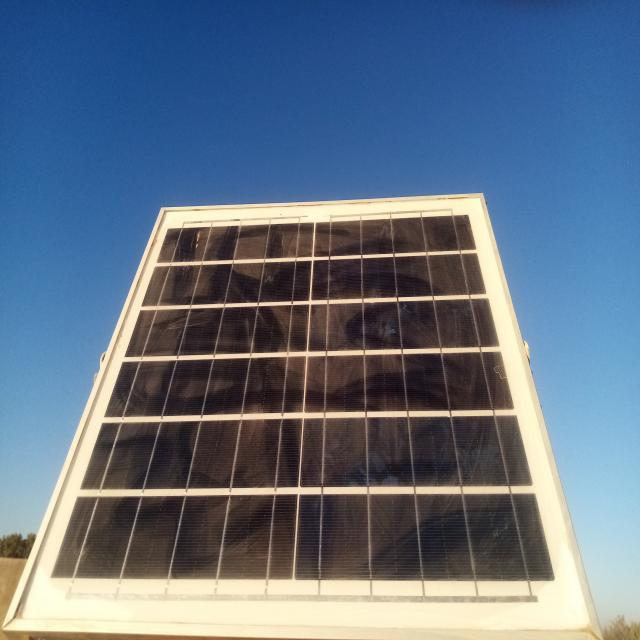faulty: (3, 195, 597, 636)
